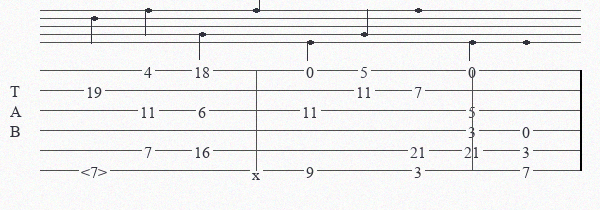0: (306, 63, 318, 78), (468, 63, 480, 78), (522, 123, 534, 138)
11: (140, 103, 160, 118), (302, 103, 322, 118), (356, 83, 376, 98)
16: (194, 143, 214, 158)
18: (194, 63, 214, 78)
19: (86, 83, 106, 98)
21: (410, 143, 430, 158), (464, 143, 484, 158)
3: (414, 163, 426, 178), (468, 123, 480, 138), (522, 143, 534, 158)
4: (144, 63, 156, 78)
5: (360, 63, 372, 78), (468, 103, 480, 118)
6: (198, 103, 210, 118)
7: (144, 143, 156, 158), (414, 83, 426, 98), (522, 163, 534, 178)
9: (306, 163, 318, 178)
harmonic: (81, 163, 111, 178)
x: (252, 165, 264, 176)
